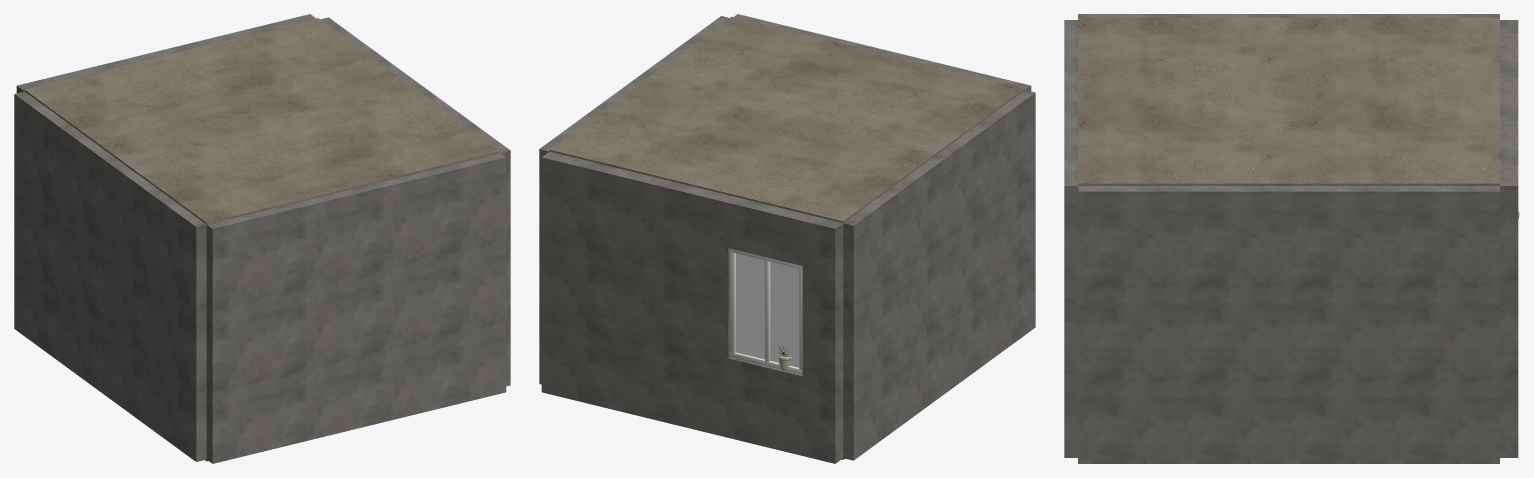
The model's file is room.glb.
The picture shows the model from 3 angles, left to right: view 1: azimuth 30°, elevation 25°; view 2: azimuth 150°, elevation 25°; view 3: azimuth 270°, elevation 25°; orthographic projection. The views are drawn at different scales.
Visible parts, largest first — view 1: wall_back, ceiling, wall_left, wall_right, wall_front_r; view 2: ceiling, wall_left, wall_front_r, wall_front_l, wall_front_b, rt_windowGlass, wall_front_t, wall_right, wall_back, window_frame_3, window_frame_4; view 3: wall_right, ceiling, wall_front_r, wall_back, wall_left, wall_front_t.
Boxes of the visible parts, left/top/right/bottom form: wall_back: left=206, top=153, right=506, bottom=463; ceiling: left=24, top=18, right=500, bottom=224; wall_left: left=14, top=91, right=206, bottom=461; wall_right: left=320, top=17, right=510, bottom=386; wall_front_r: left=124, top=14, right=315, bottom=63; ceiling: left=549, top=16, right=1025, bottom=222; wall_left: left=843, top=90, right=1035, bottom=460; wall_front_r: left=541, top=151, right=735, bottom=437; wall_front_l: left=802, top=215, right=843, bottom=463; wall_front_b: left=728, top=357, right=802, bottom=455; rt_windowGlass: left=736, top=253, right=799, bottom=367; wall_front_t: left=728, top=197, right=809, bottom=265; wall_right: left=539, top=16, right=729, bottom=384; wall_back: left=734, top=14, right=1031, bottom=91; window_frame_3: left=730, top=249, right=735, bottom=357; window_frame_4: left=765, top=257, right=770, bottom=366; wall_right: left=1078, top=186, right=1499, bottom=463; ceiling: left=1078, top=17, right=1499, bottom=185; wall_front_r: left=1500, top=80, right=1518, bottom=457; wall_back: left=1064, top=20, right=1077, bottom=457; wall_left: left=1078, top=14, right=1499, bottom=17; wall_front_t: left=1500, top=38, right=1518, bottom=80.
Bounding box in the file's own units: 3.64 × 2.64 × 3.94.
57 materials, 9 textured.
